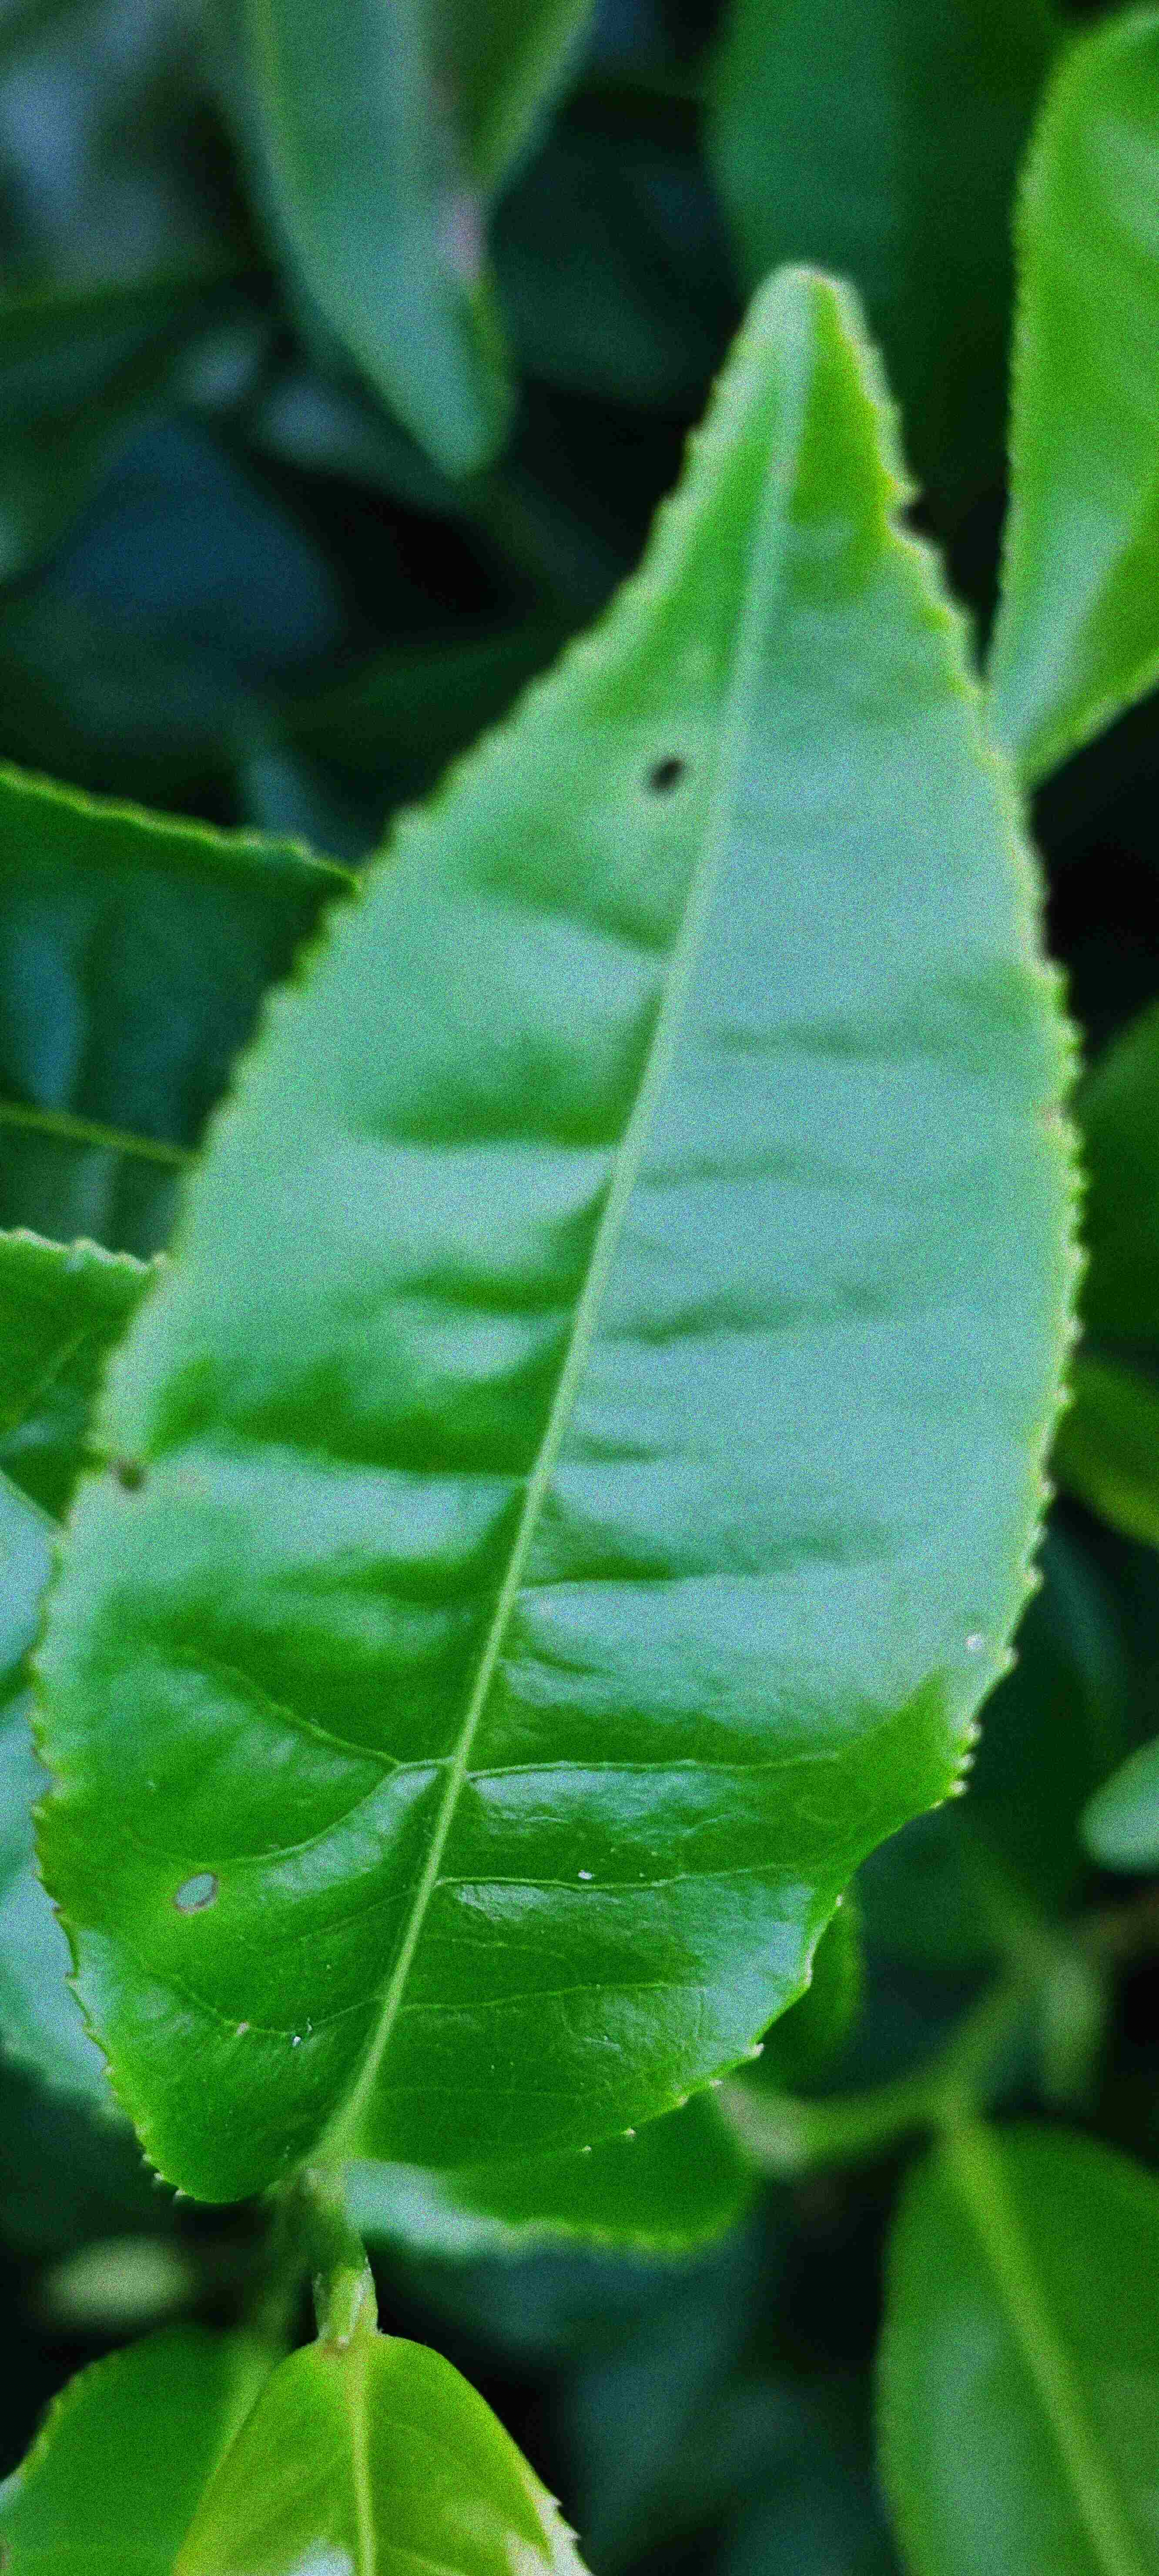chihuo_high: (28, 255, 1105, 2200)
